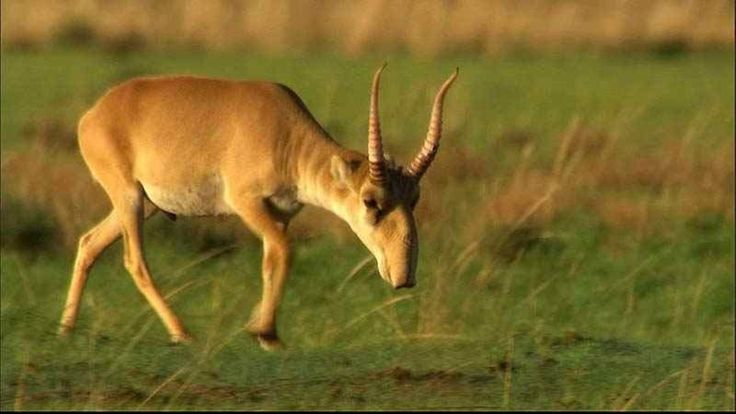saiga: (53, 59, 462, 362)
